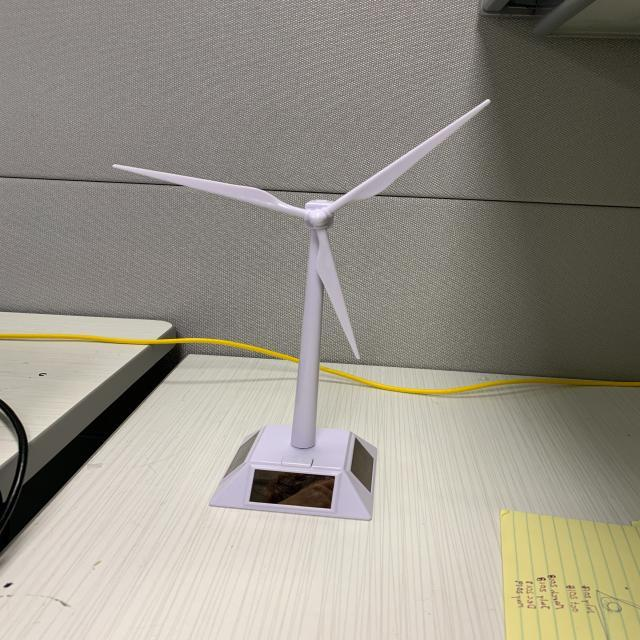solid-blade: (331, 101, 490, 212), (114, 166, 304, 217), (316, 229, 359, 358)
